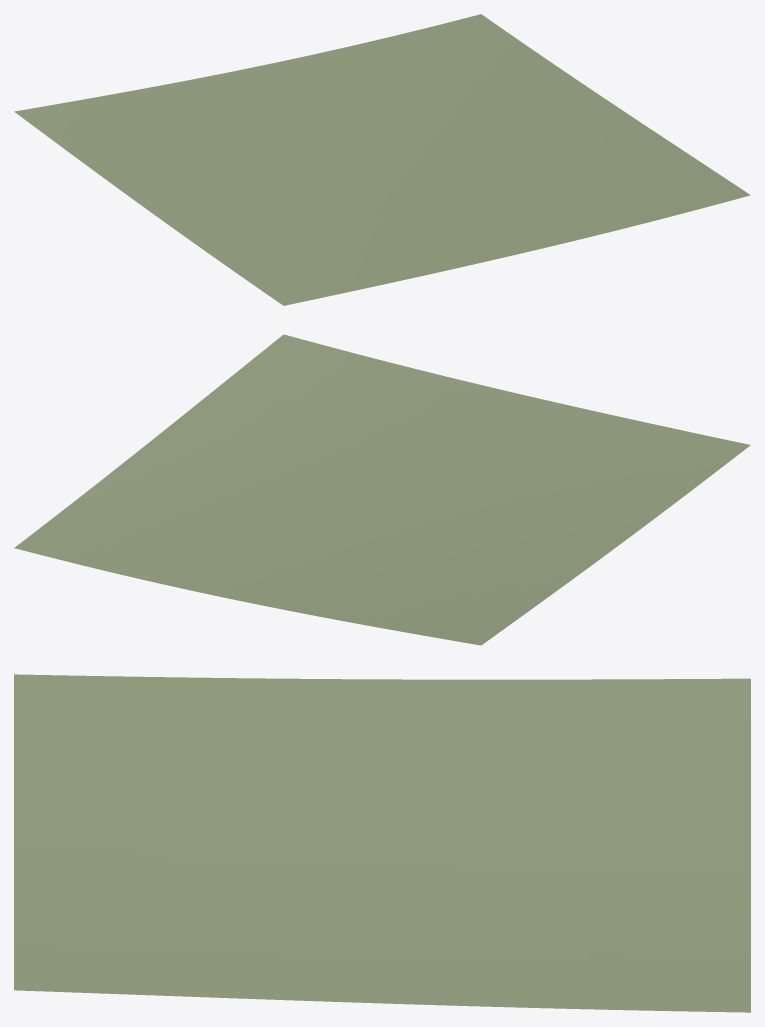
Rendered from expanse-8-27.glb.
3 renders of one model, top to bottom at view 1: azimuth 30°, elevation 25°; view 2: azimuth 150°, elevation 25°; view 3: azimuth 270°, elevation 25°, orthographic. The views are drawn at different scales.
Visible parts, largest first — view 1: expanse-8-27; view 2: expanse-8-27; view 3: expanse-8-27.
Boxes of the visible parts, <box> form: expanse-8-27: <box>14,14,750,305</box>; expanse-8-27: <box>14,334,750,645</box>; expanse-8-27: <box>14,674,750,1012</box>.
Size of the model in its own units: 256 by 10.59 by 256.
